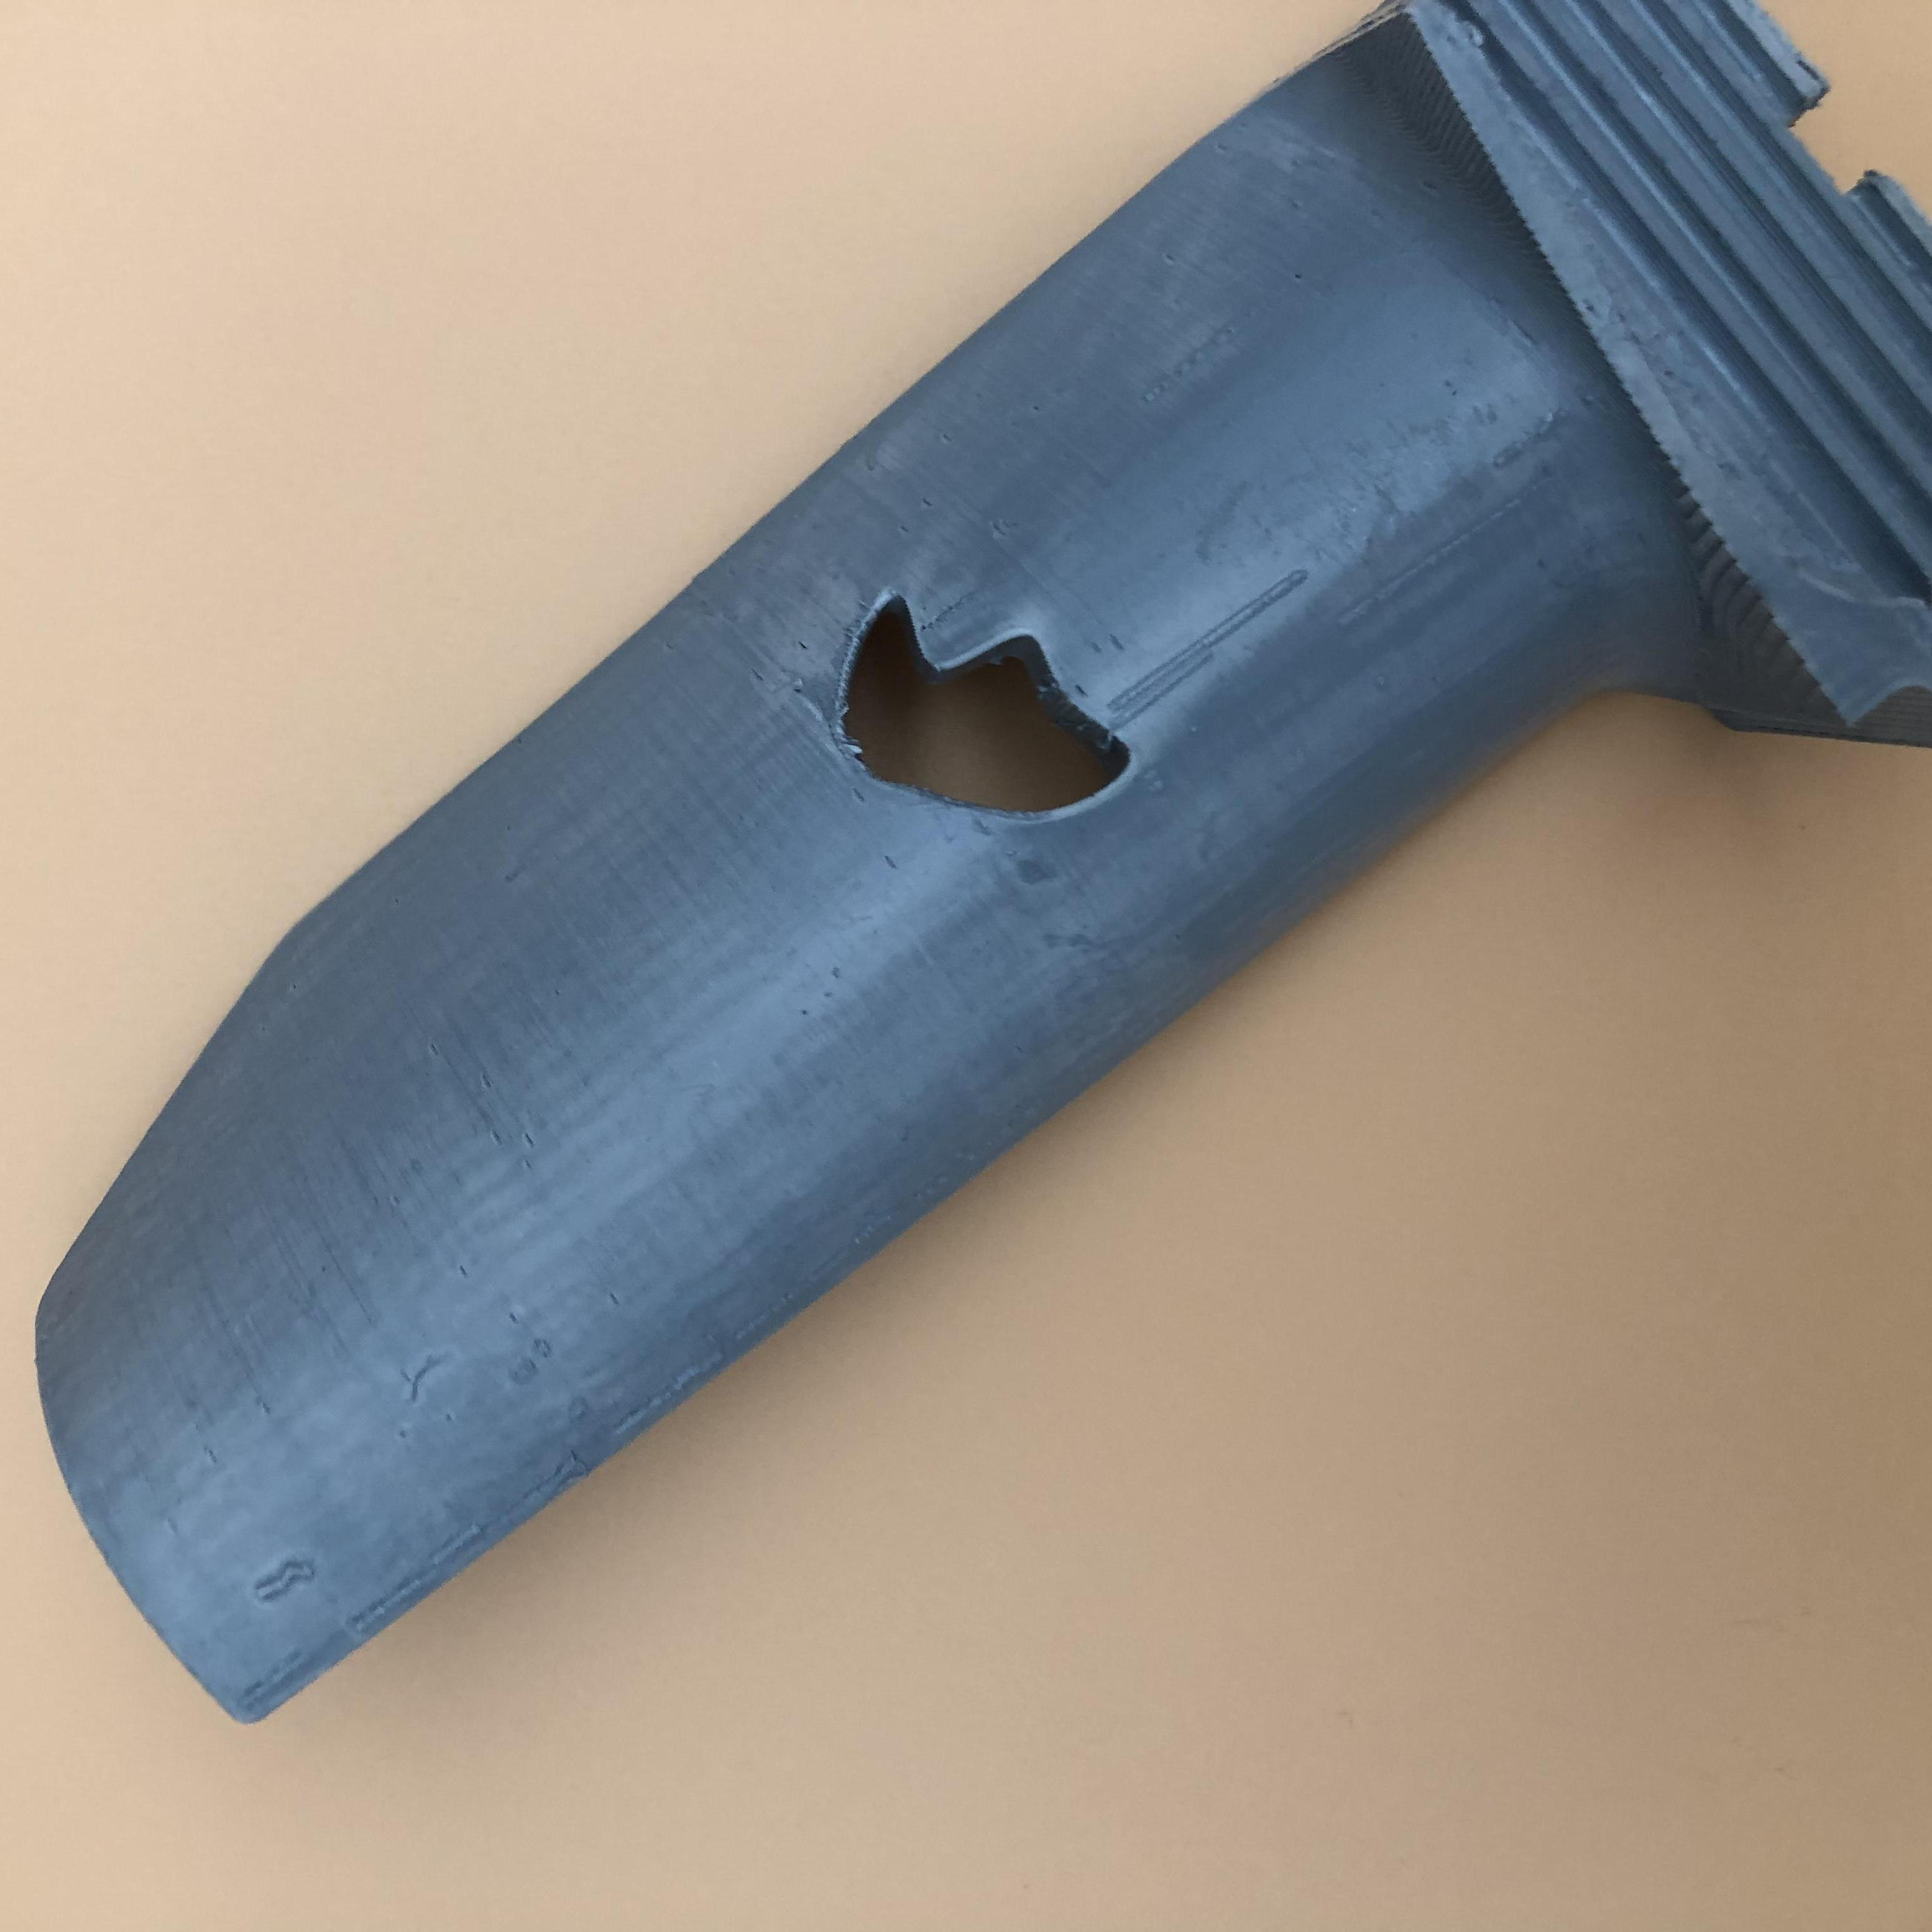breakdown: (837, 591, 1143, 814)
